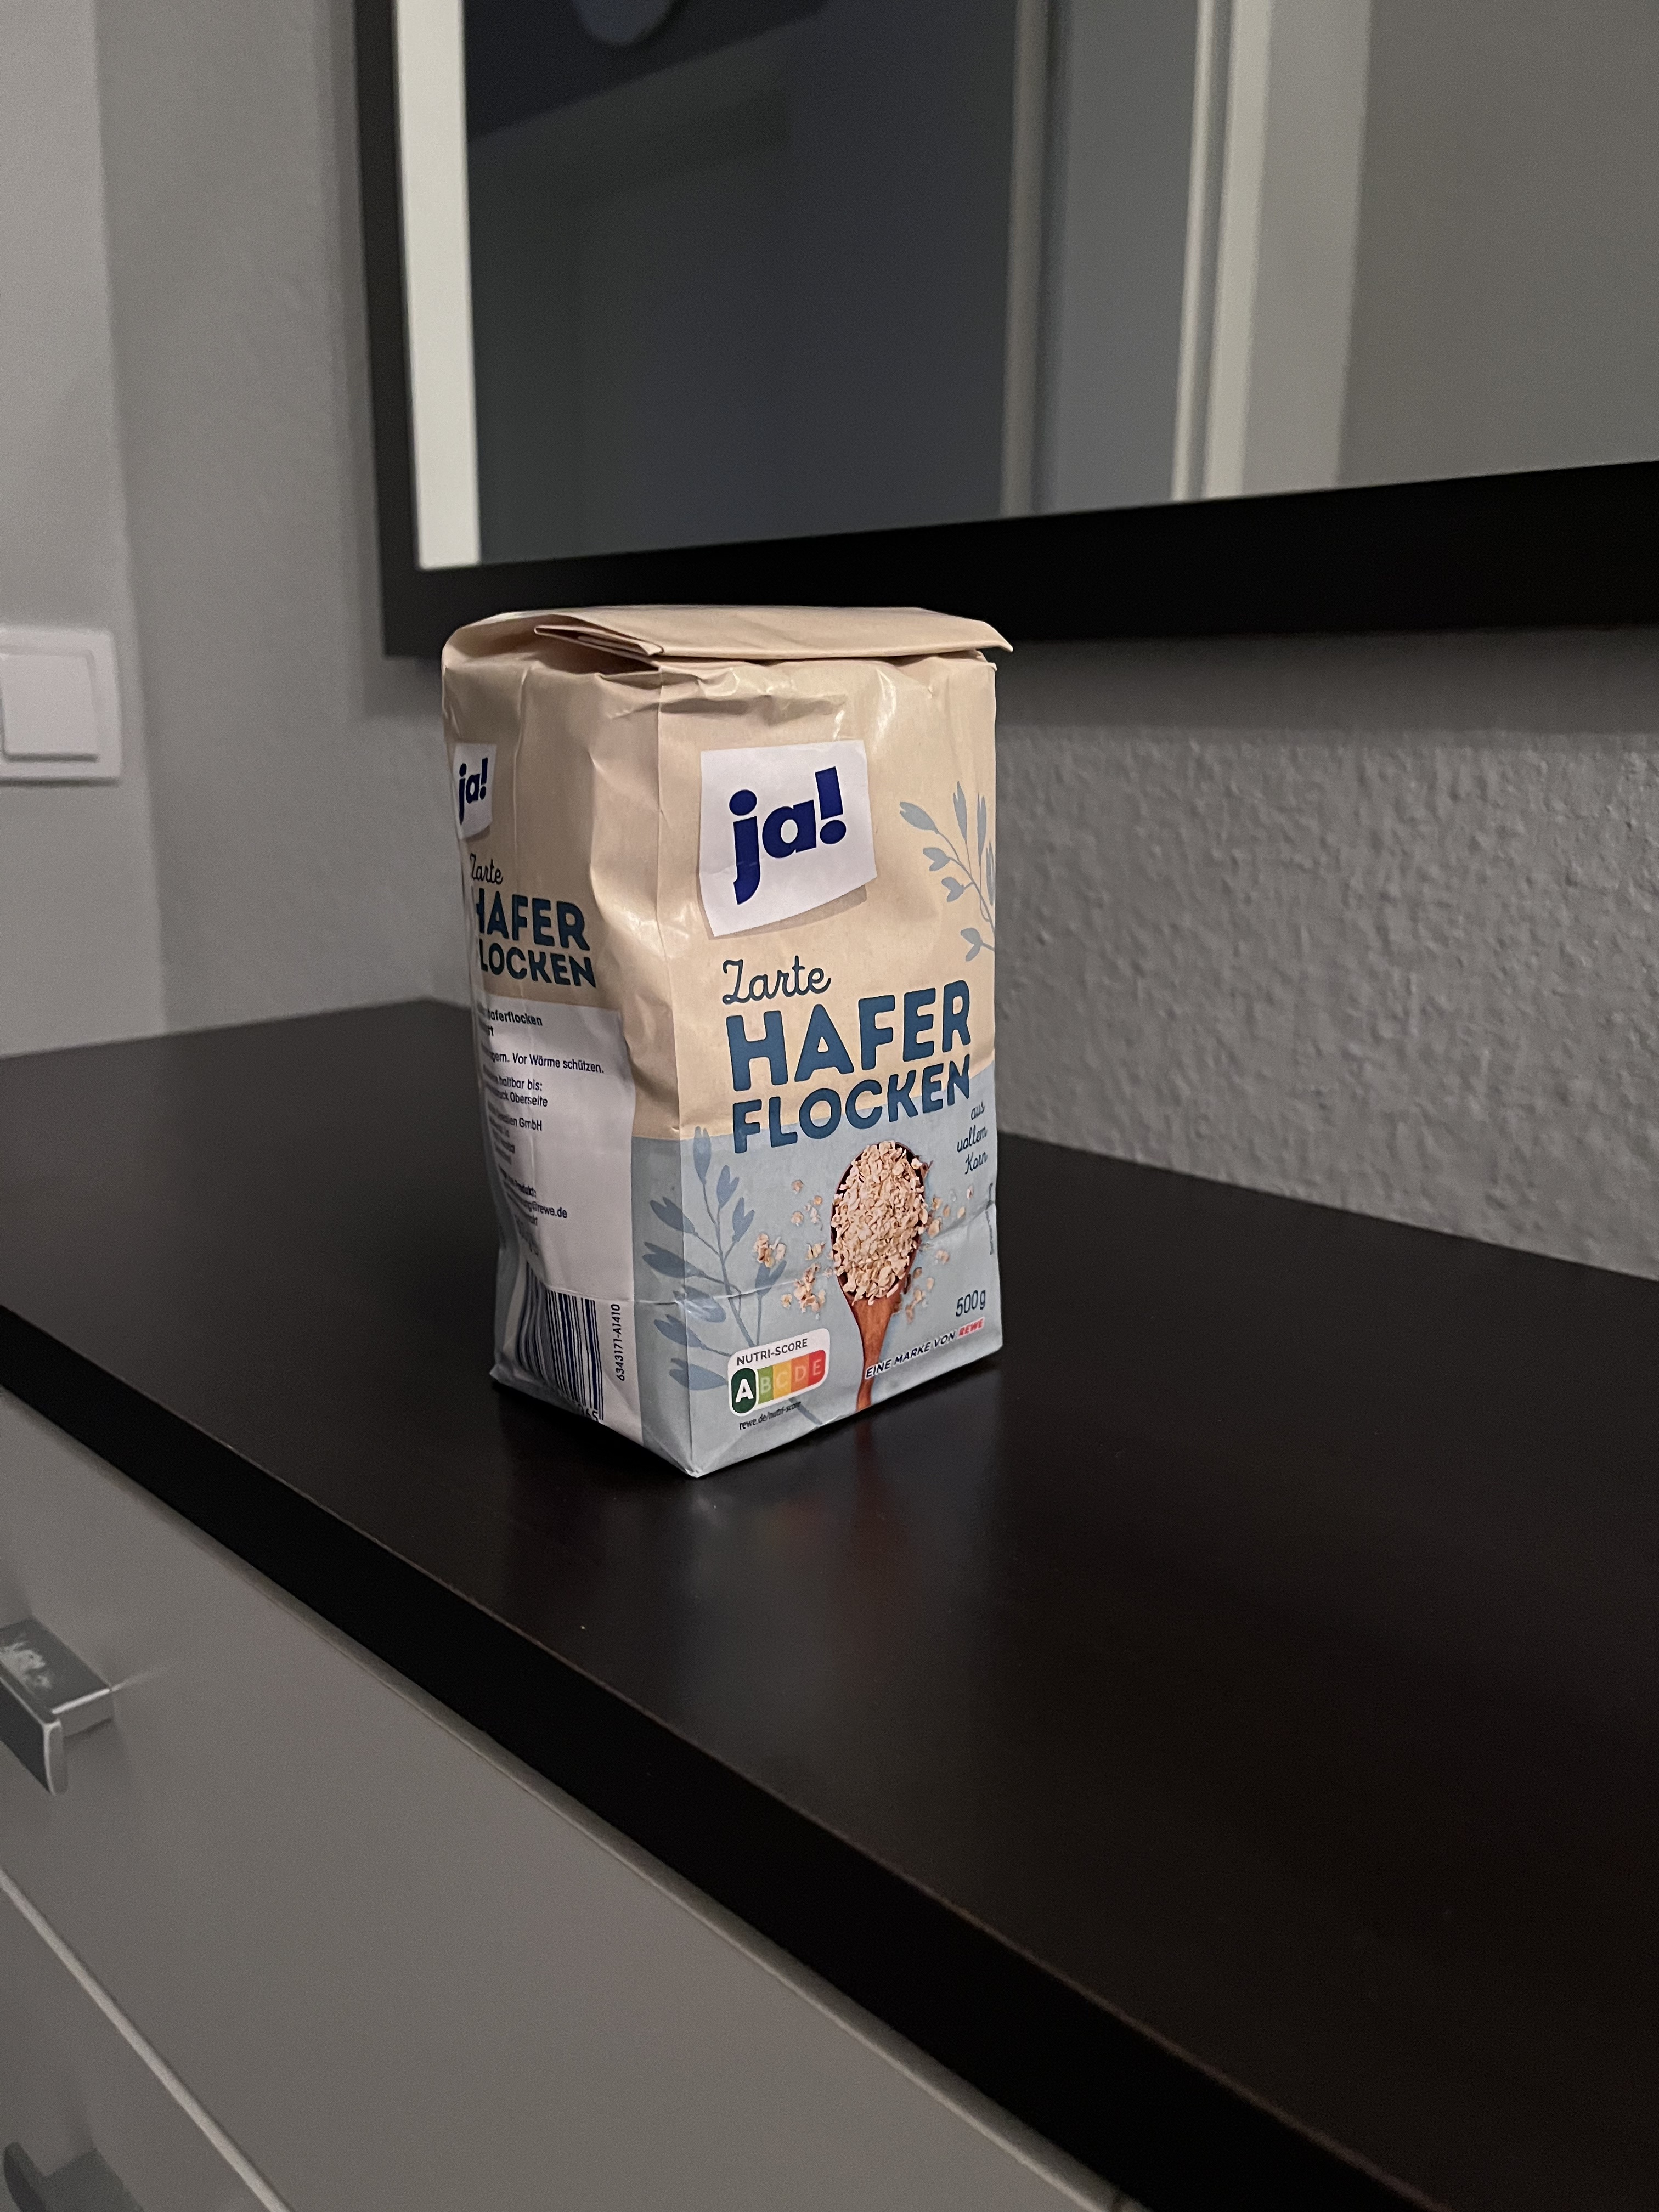haferflocken_ja: (429, 604, 1012, 1480)
